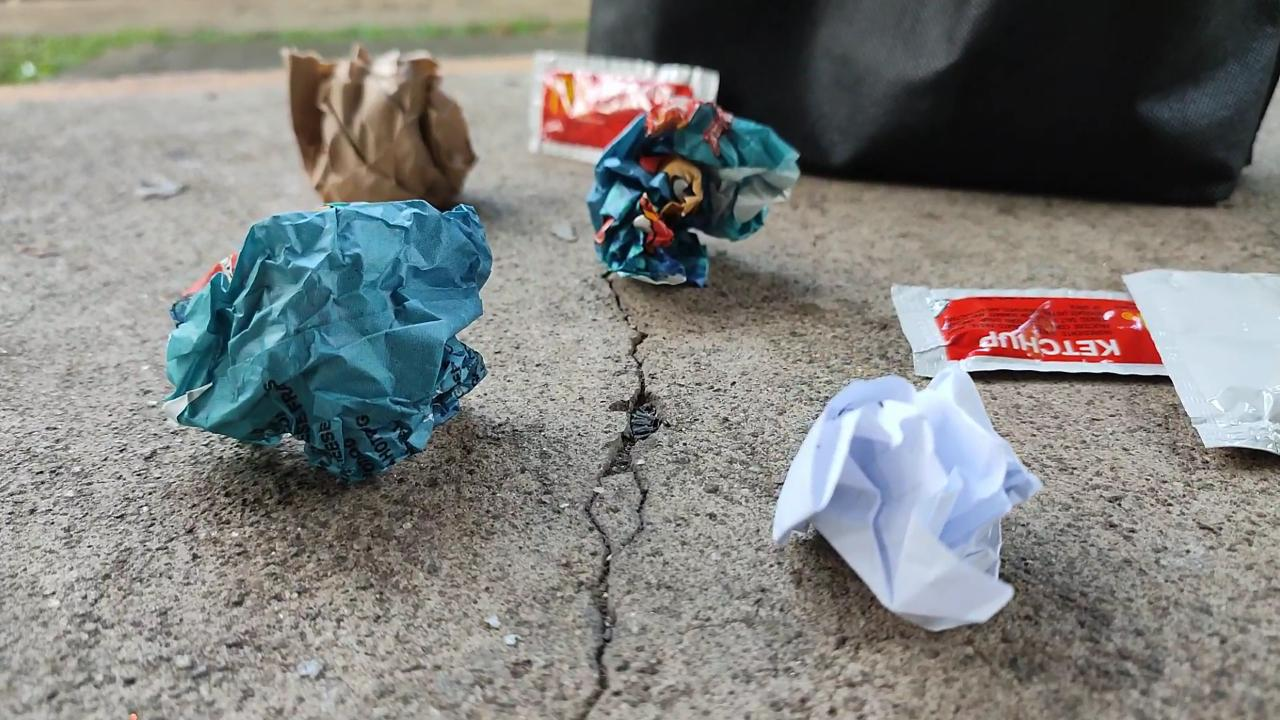Paper: (153, 177, 497, 491), (744, 365, 1033, 639), (586, 98, 790, 296), (264, 40, 486, 219)
